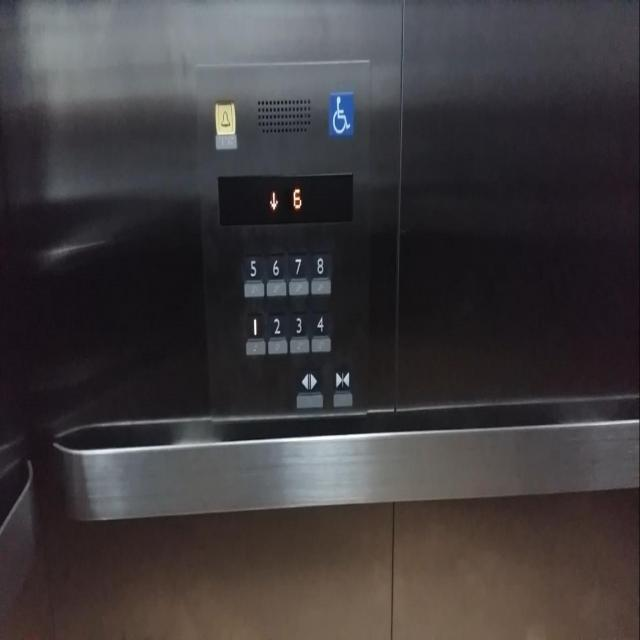1: (244, 309, 266, 339)
2: (266, 308, 287, 340)
3: (287, 308, 309, 339)
4: (308, 308, 332, 338)
5: (240, 250, 265, 282)
6: (264, 250, 288, 282)
7: (286, 248, 308, 282)
8: (309, 247, 331, 281)
CH: (328, 89, 354, 139)
alarm: (214, 97, 236, 135)
close: (331, 363, 353, 392)
led: (215, 168, 355, 228)
open: (295, 364, 325, 395)
